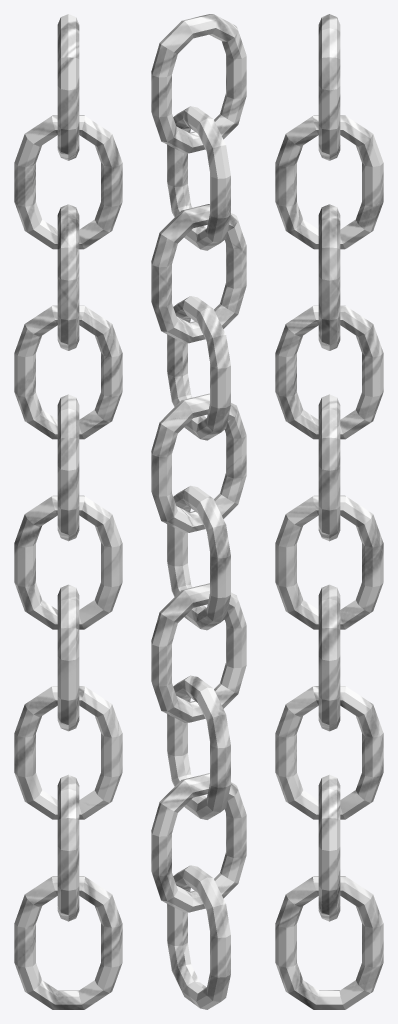
File: lancuch2.fbx
The picture shows the model from 3 angles, left to right: view 1: azimuth 90°, elevation 25°; view 2: azimuth 210°, elevation 25°; view 3: azimuth 270°, elevation 25°; orthographic projection.
Visible parts, largest first — view 1: Lancuch2; view 2: Lancuch2; view 3: Lancuch2.
Part boxes in pixels (bbox=[...]): Lancuch2: bbox=[14, 14, 122, 1009]; Lancuch2: bbox=[151, 14, 246, 1009]; Lancuch2: bbox=[275, 14, 383, 1009].
Size of the model in its own units: 30.47 by 308 by 30.47.
